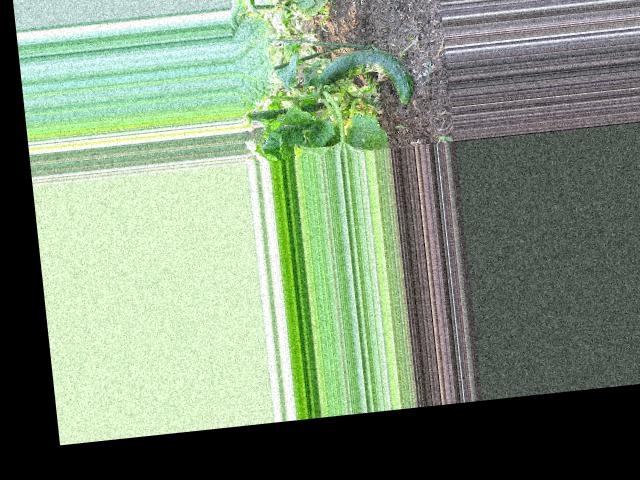cucumber: (316, 44, 415, 113)
